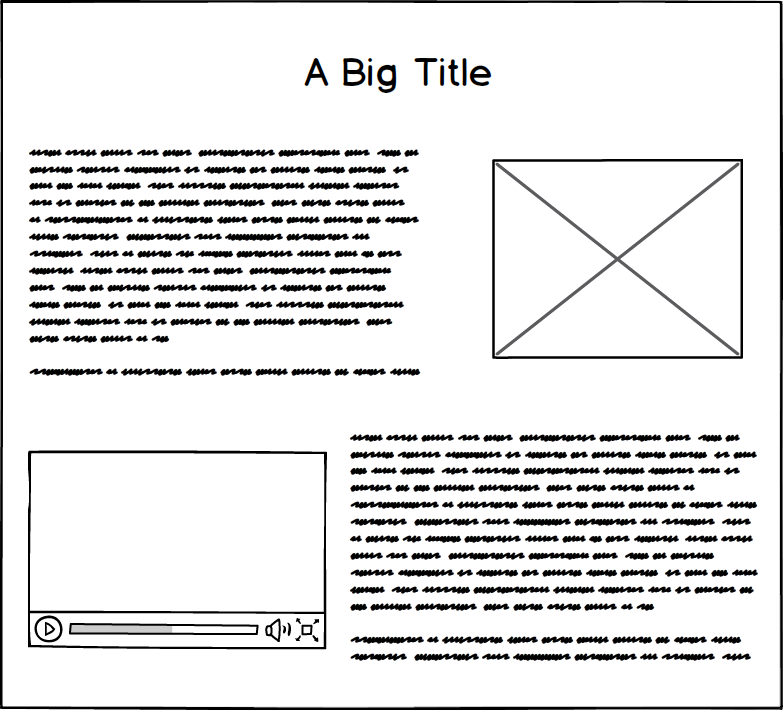h1: (295, 45, 497, 102)
image: (487, 154, 751, 364)
p: (23, 142, 434, 382), (346, 430, 763, 665)
video: (21, 444, 331, 655)
